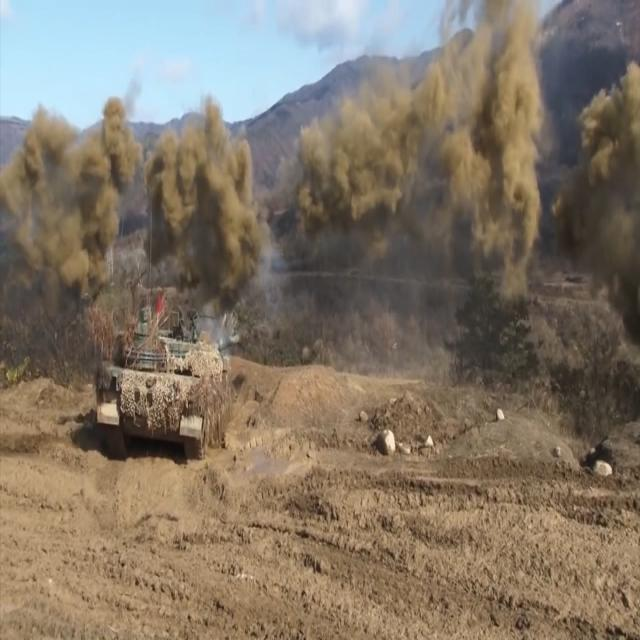korea tank: (91, 303, 279, 464)
